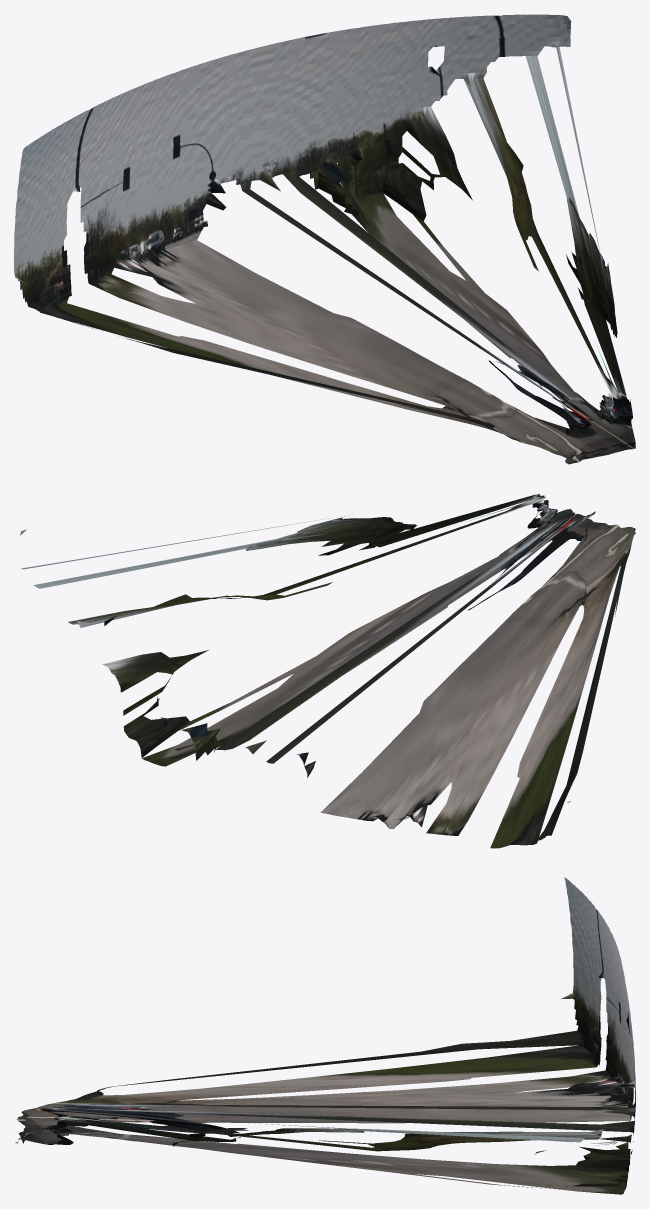
The picture shows the model from 3 angles, top to bottom: view 1: azimuth 30°, elevation 25°; view 2: azimuth 150°, elevation 25°; view 3: azimuth 270°, elevation 25°; orthographic projection. The views are drawn at different scales.
Parts seen in each view (by area): view 1: defaultobject; view 2: defaultobject; view 3: defaultobject.
Boxes of the visible parts, x1,y1,x2,y2 form: defaultobject: [14, 14, 635, 464]; defaultobject: [20, 494, 635, 848]; defaultobject: [15, 877, 635, 1194].
Bounding box in the file's own units: 40.97 × 13.74 × 44.66.
Materials: 1 (1 with a texture image).
